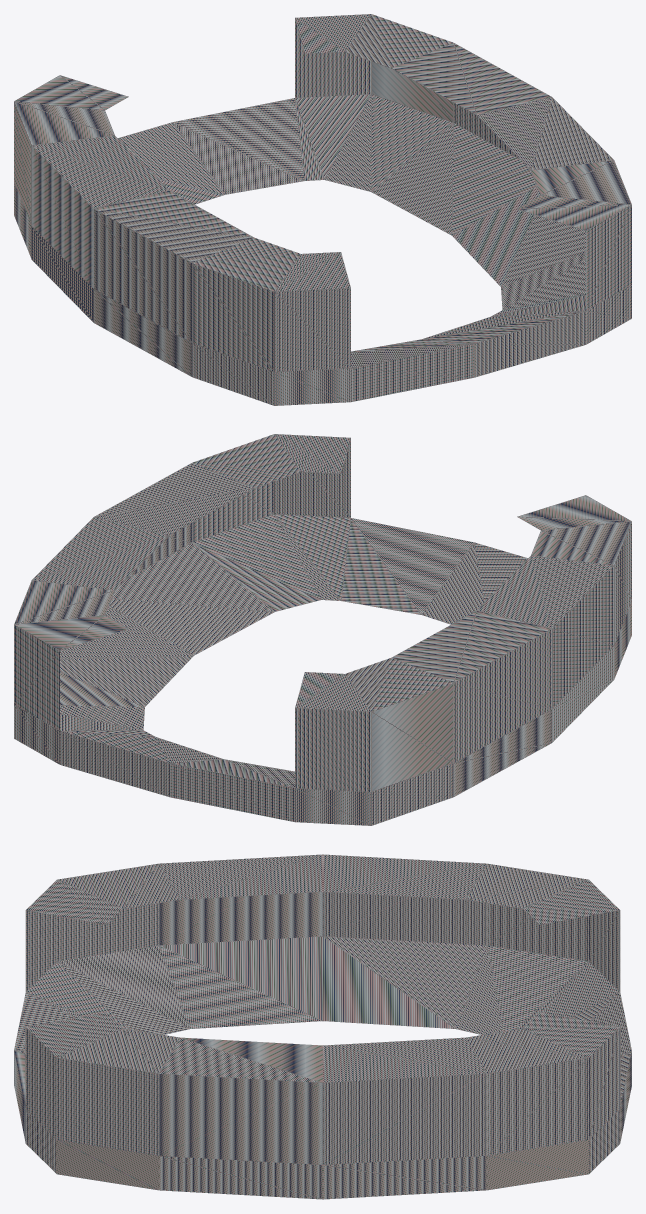
The model's file is skcl_env.gltf.
3 views of the same model, one above another, from view 1: azimuth 30°, elevation 25°; view 2: azimuth 150°, elevation 25°; view 3: azimuth 270°, elevation 25° (orthographic). The views are drawn at different scales.
Parts seen in each view (by area): view 1: node1; view 2: node1; view 3: node1.
Part boxes in pixels (<box>): node1: <box>14,14,631,405</box>; node1: <box>14,434,631,825</box>; node1: <box>14,854,631,1199</box>.
Bounding box in the file's own units: 175 × 41.7 × 200.
